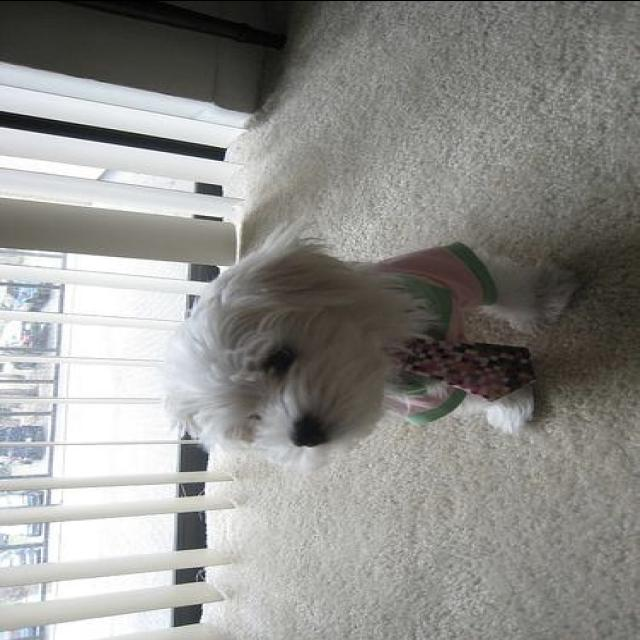maltese_dog: (154, 218, 578, 466)
